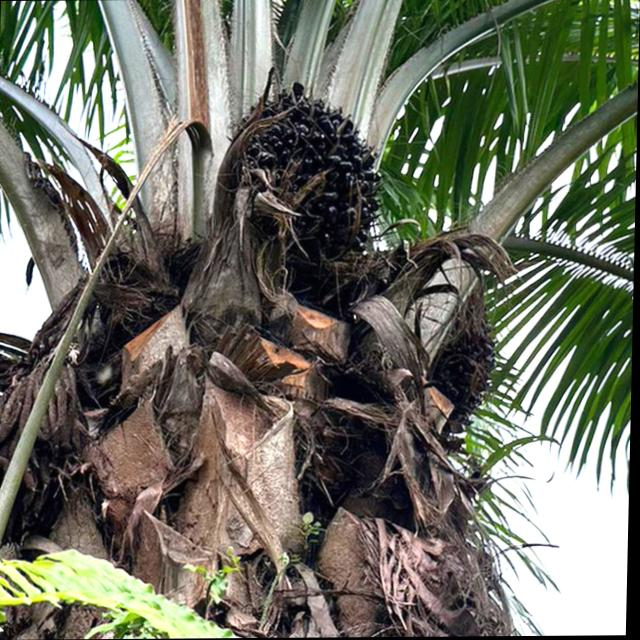unripe: (212, 79, 400, 285)
